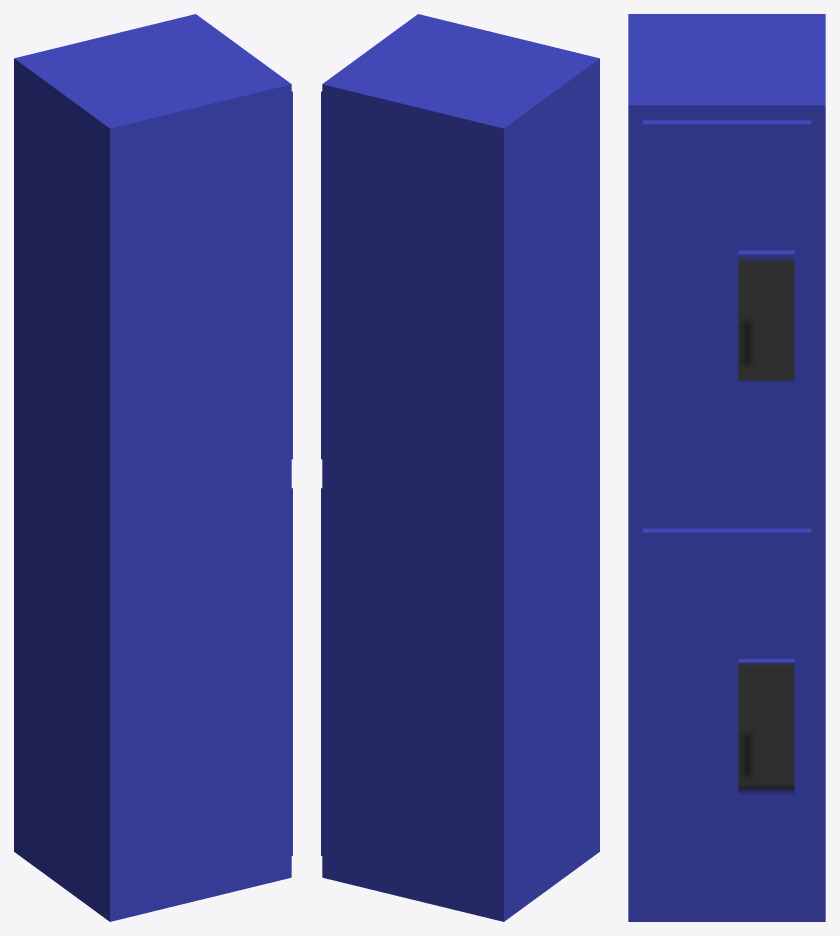
The model's file is locker.fbx.
3 renders of one model, left to right at view 1: azimuth 30°, elevation 25°; view 2: azimuth 150°, elevation 25°; view 3: azimuth 270°, elevation 25°, orthographic. The views are drawn at different scales.
Parts seen in each view (by area): view 1: Locker; view 2: Locker; view 3: Locker.
Boxes of the visible parts, <box> form: Locker: <box>14,14,292,921</box>; Locker: <box>321,14,599,921</box>; Locker: <box>628,14,825,921</box>.
Bounding box in the file's own units: 6.07 × 23.31 × 5.11.
